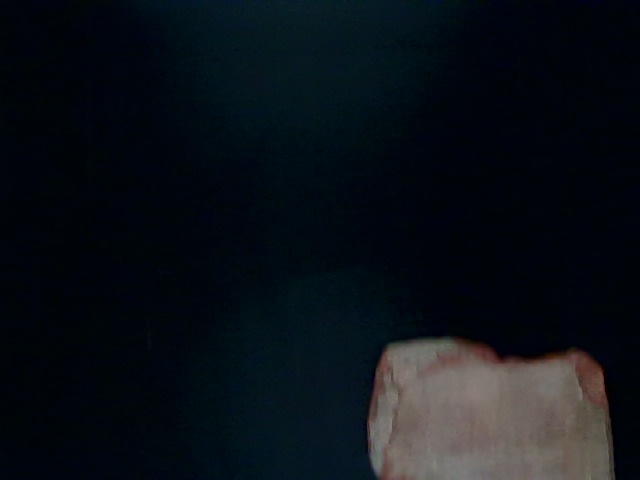KHSLJ: (275, 314, 534, 480)
